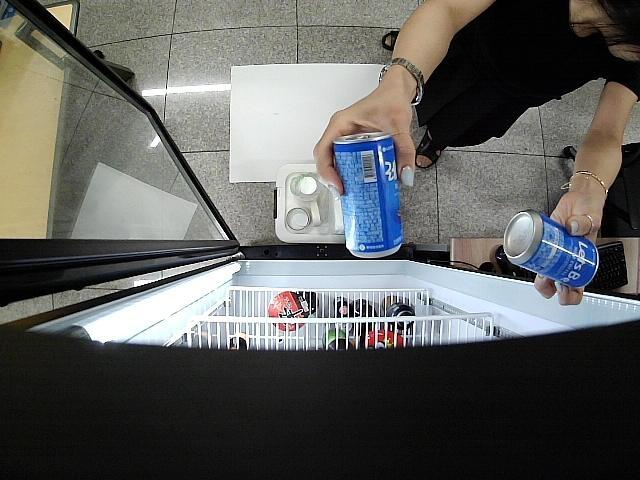15_letsbe: (332, 129, 404, 259), (502, 208, 598, 288)
